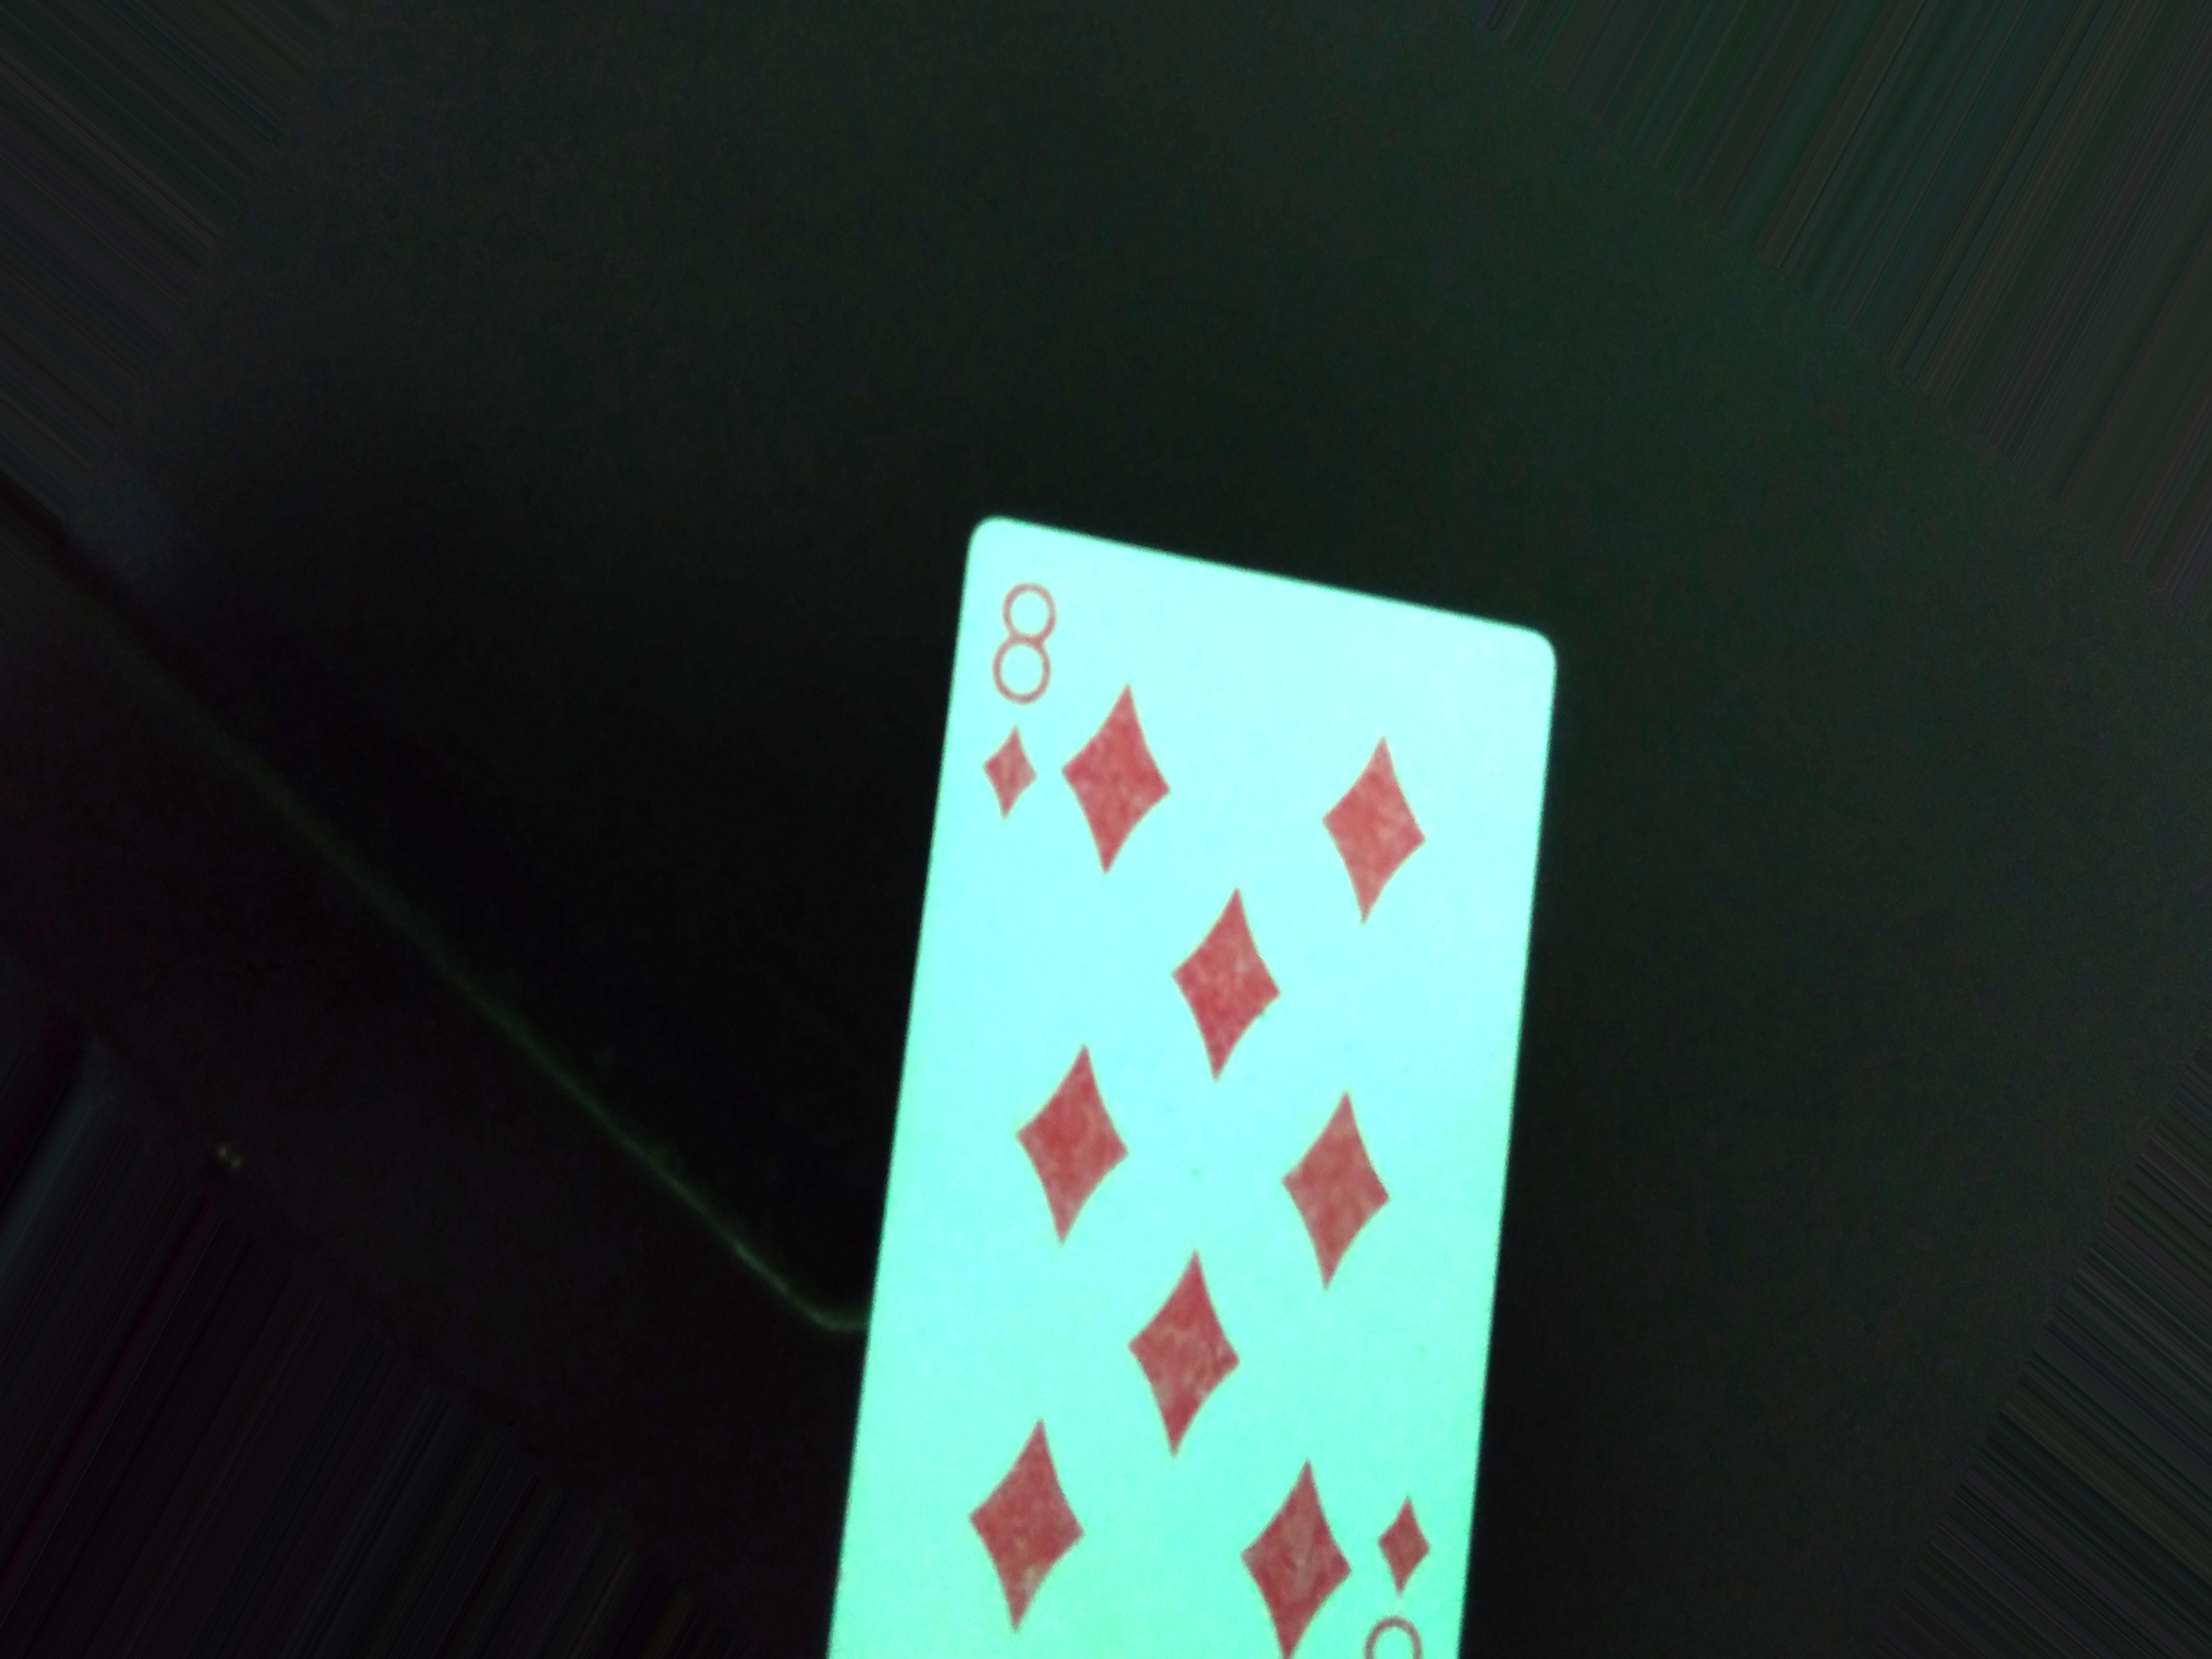8D: (961, 563, 1073, 828)
